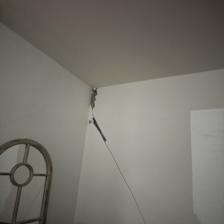High: (85, 85, 147, 223)
